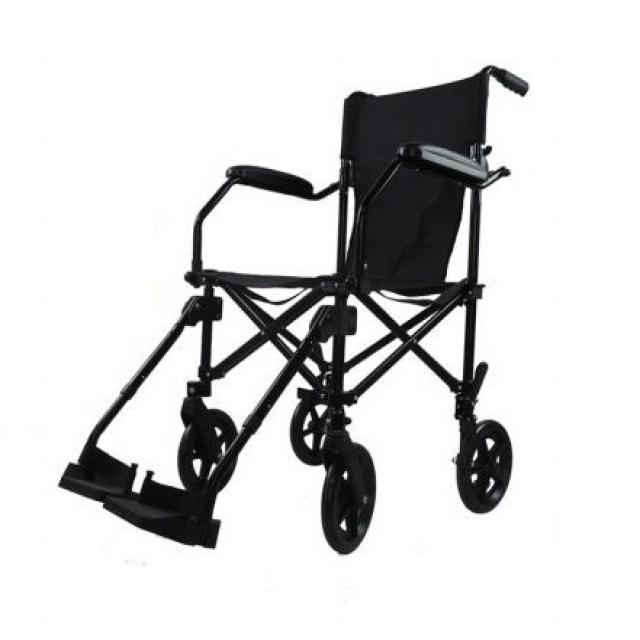wheelchair: (46, 47, 559, 578)
